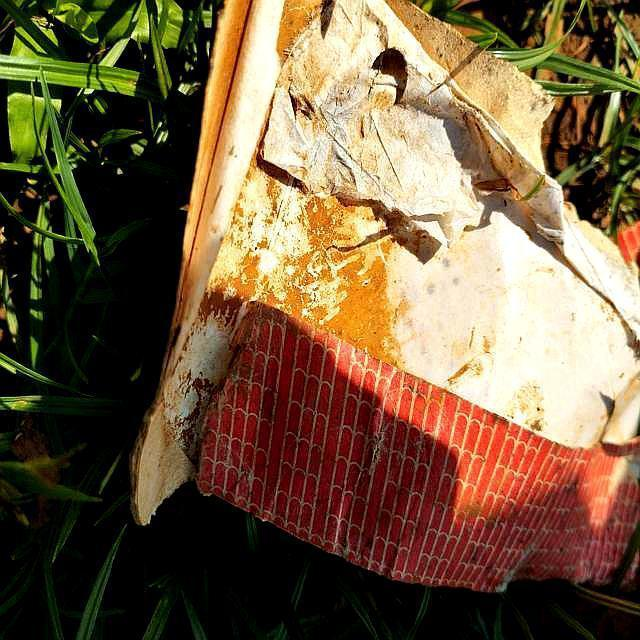Biodegradable: (135, 1, 640, 585)
